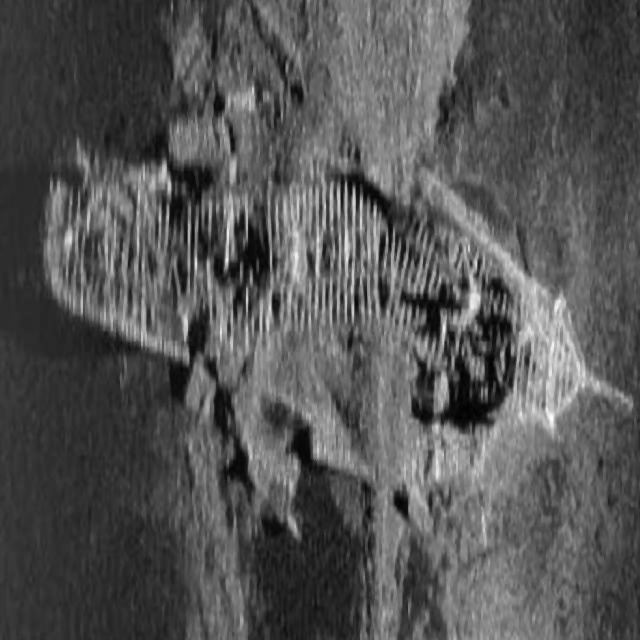Ship: (38, 103, 587, 538)
